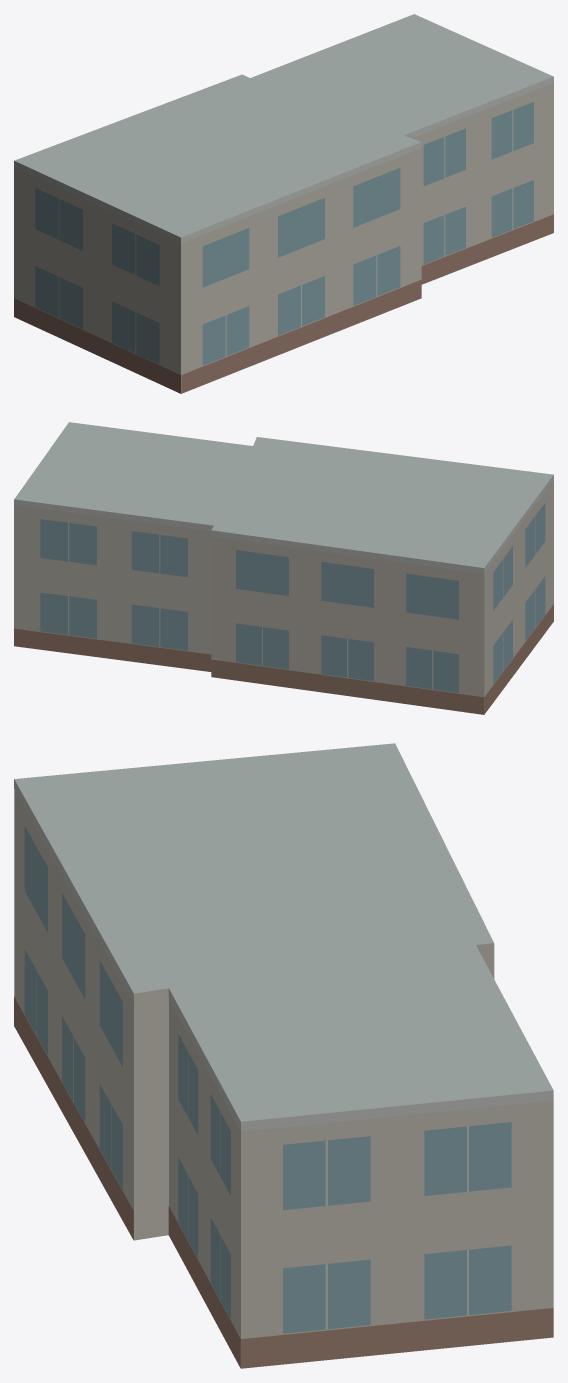
The model's file is survey-upis-32882377.glb.
The picture shows the model from 3 angles, top to bottom: view 1: azimuth 30°, elevation 25°; view 2: azimuth 150°, elevation 25°; view 3: azimuth 270°, elevation 25°; orthographic projection. The views are drawn at different scales.
Visible parts, largest first — view 1: survey-upis-32882377.tmp; view 2: survey-upis-32882377.tmp; view 3: survey-upis-32882377.tmp.
Part boxes in pixels (x1,y1,x2,y2): survey-upis-32882377.tmp: (14,14,553,393); survey-upis-32882377.tmp: (14,422,553,714); survey-upis-32882377.tmp: (14,743,553,1368).
Size of the model in its own units: 20.06 by 6.1 by 12.09.
